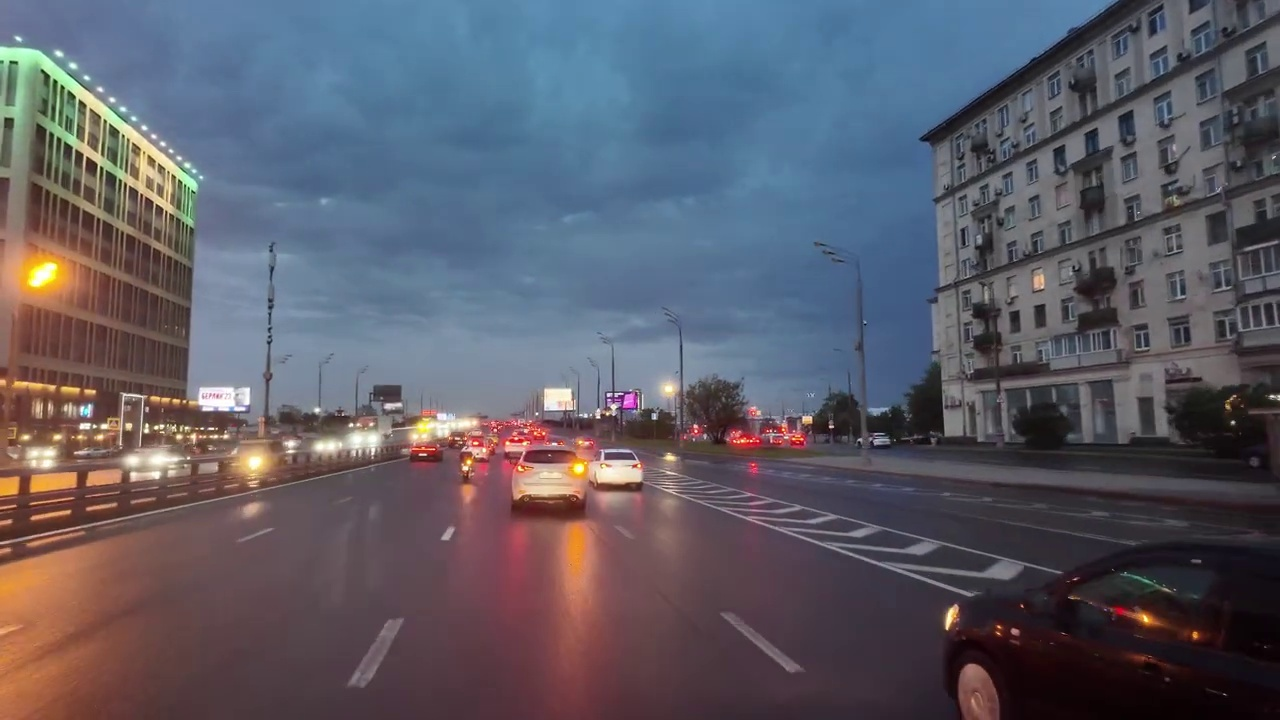acesa: (21, 257, 66, 296)
apagada: (811, 237, 841, 266)
